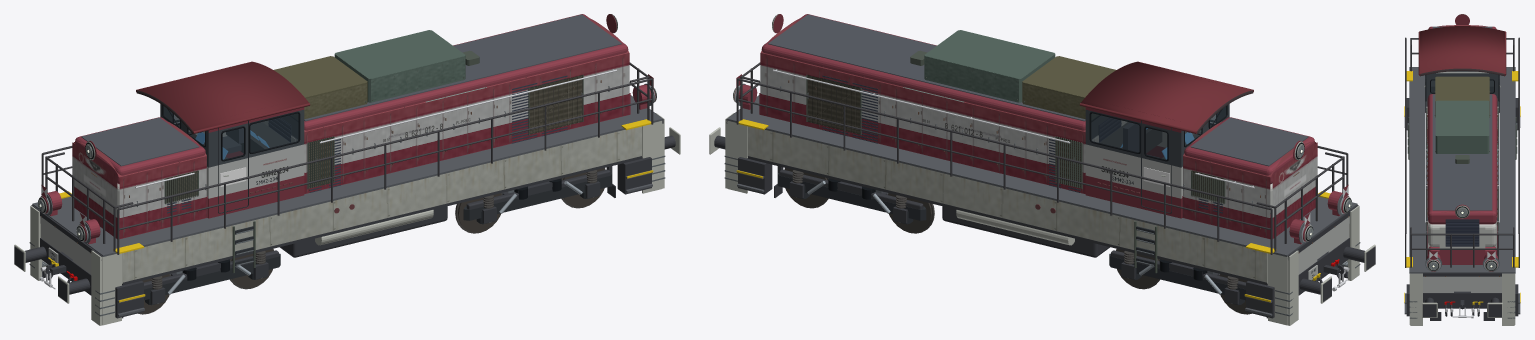
The picture shows the model from 3 angles, left to right: view 1: azimuth 30°, elevation 25°; view 2: azimuth 150°, elevation 25°; view 3: azimuth 270°, elevation 25°; orthographic projection. The views are drawn at different scales.
Visible parts, largest first — view 1: Dzielone osłony, pokrywy, żaluzje i tablice boczne SM42-234, Blachy, drzwiczki i przeszklenie SM42-234, SM42_pomost, Łukowy dach kabiny z okapem, SM42_maska_dach_dluga, SM42_porecze_-1, SM42_okap_dluga, Lampy, tablice sygnałowe i rygle SM42, SM42_maska_dach_krotka, Rama, zawieszenie i hamulce.001, SM42_listwa_dol, Rama, zawieszenie i hamulce (+18 smaller); view 2: Dzielone osłony, pokrywy, żaluzje i tablice boczne SM42-234, Blachy, drzwiczki i przeszklenie SM42-234, SM42_pomost, Łukowy dach kabiny z okapem, SM42_maska_dach_dluga, SM42_porecze_1, SM42_okap_dluga, Lampy, tablice sygnałowe i rygle SM42, SM42_maska_dach_krotka, Rama, zawieszenie i hamulce.001, SM42_listwa_dol, Rama, zawieszenie i hamulce (+18 smaller); view 3: SM42_pomost, Dzielone osłony, pokrywy, żaluzje i tablice boczne SM42-234, Łukowy dach kabiny z okapem, SM42_maska_dach_dluga, Lampy, tablice sygnałowe i rygle SM42, SM42_okap_dluga, SM42_czolownica_1, SM42_krata_czola_1, SM42_barierka_1, Blachy, drzwiczki i przeszklenie SM42-234, SM42_czolownica_plyta_1_1, SM42_czolownica_plyta_1_-1 (+21 smaller).
Part boxes in pixels (box(x1,y1,x2,y2)): Dzielone osłony, pokrywy, żaluzje i tablice boczne SM42-234: box(73, 18, 641, 282); Blachy, drzwiczki i przeszklenie SM42-234: box(72, 53, 629, 238); SM42_pomost: box(32, 95, 662, 256); Łukowy dach kabiny z okapem: box(136, 61, 310, 134); SM42_maska_dach_dluga: box(304, 14, 621, 121); SM42_porecze_-1: box(117, 78, 653, 254); SM42_okap_dluga: box(304, 14, 628, 130); Lampy, tablice sygnałowe i rygle SM42: box(38, 14, 656, 274); SM42_maska_dach_krotka: box(81, 117, 199, 166); Rama, zawieszenie i hamulce.001: box(463, 173, 612, 224); SM42_listwa_dol: box(122, 156, 641, 285); Rama, zawieszenie i hamulce: box(144, 253, 280, 305); Dzielone osłony, pokrywy, żaluzje i tablice boczne SM42-234: box(748, 18, 1316, 282); Blachy, drzwiczki i przeszklenie SM42-234: box(760, 53, 1317, 238); SM42_pomost: box(727, 95, 1357, 256); Łukowy dach kabiny z okapem: box(1079, 61, 1253, 134); SM42_maska_dach_dluga: box(768, 14, 1085, 121); SM42_porecze_1: box(736, 78, 1272, 254); SM42_okap_dluga: box(761, 14, 1085, 130); Lampy, tablice sygnałowe i rygle SM42: box(733, 14, 1351, 280); SM42_maska_dach_krotka: box(1190, 117, 1308, 166); Rama, zawieszenie i hamulce.001: box(777, 173, 926, 224); SM42_listwa_dol: box(748, 156, 1267, 285); Rama, zawieszenie i hamulce: box(1109, 253, 1245, 305); SM42_pomost: box(1409, 67, 1515, 273); Dzielone osłony, pokrywy, żaluzje i tablice boczne SM42-234: box(1407, 25, 1517, 233); Łukowy dach kabiny z okapem: box(1418, 26, 1506, 76); SM42_maska_dach_dluga: box(1432, 94, 1492, 210); Lampy, tablice sygnałowe i rygle SM42: box(1423, 14, 1501, 292); SM42_okap_dluga: box(1428, 94, 1496, 224); SM42_czolownica_1: box(1423, 291, 1501, 308); SM42_krata_czola_1: box(1445, 219, 1479, 246); SM42_barierka_1: box(1410, 227, 1514, 267); Blachy, drzwiczki i przeszklenie SM42-234: box(1426, 71, 1498, 144); SM42_czolownica_plyta_1_1: box(1502, 273, 1514, 325); SM42_czolownica_plyta_1_-1: box(1410, 273, 1422, 325).
Bounding box in the file's own units: 14.24 × 4.18 × 3.12.
Materials: 61 (8 with a texture image).
